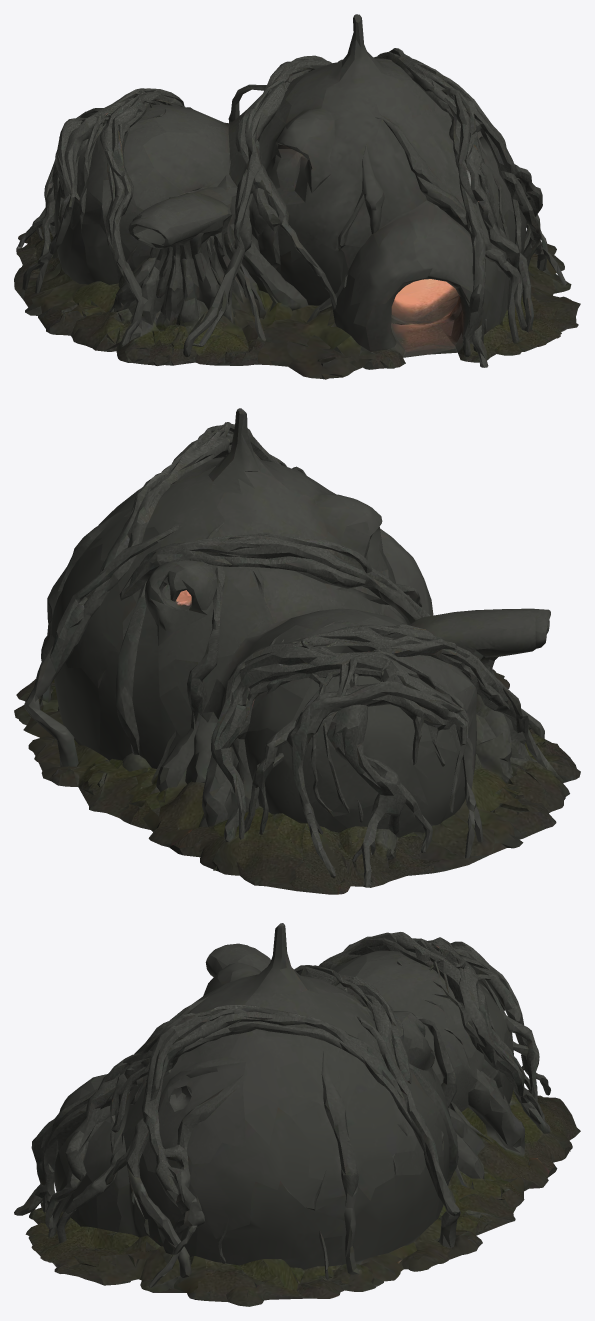
The model's file is yodahut.glb.
The picture shows the model from 3 angles, top to bottom: view 1: azimuth 30°, elevation 25°; view 2: azimuth 150°, elevation 25°; view 3: azimuth 270°, elevation 25°; orthographic projection. The views are drawn at different scales.
Visible parts, largest first — view 1: yodahut-centred; view 2: yodahut-centred; view 3: yodahut-centred.
Part boxes in pixels (bbox=[...]): yodahut-centred: bbox=[14, 14, 580, 379]; yodahut-centred: bbox=[14, 408, 580, 894]; yodahut-centred: bbox=[14, 923, 580, 1306].
Size of the model in its own units: 9.41 by 5.09 by 9.09.
Materials: 1 (1 with a texture image).
